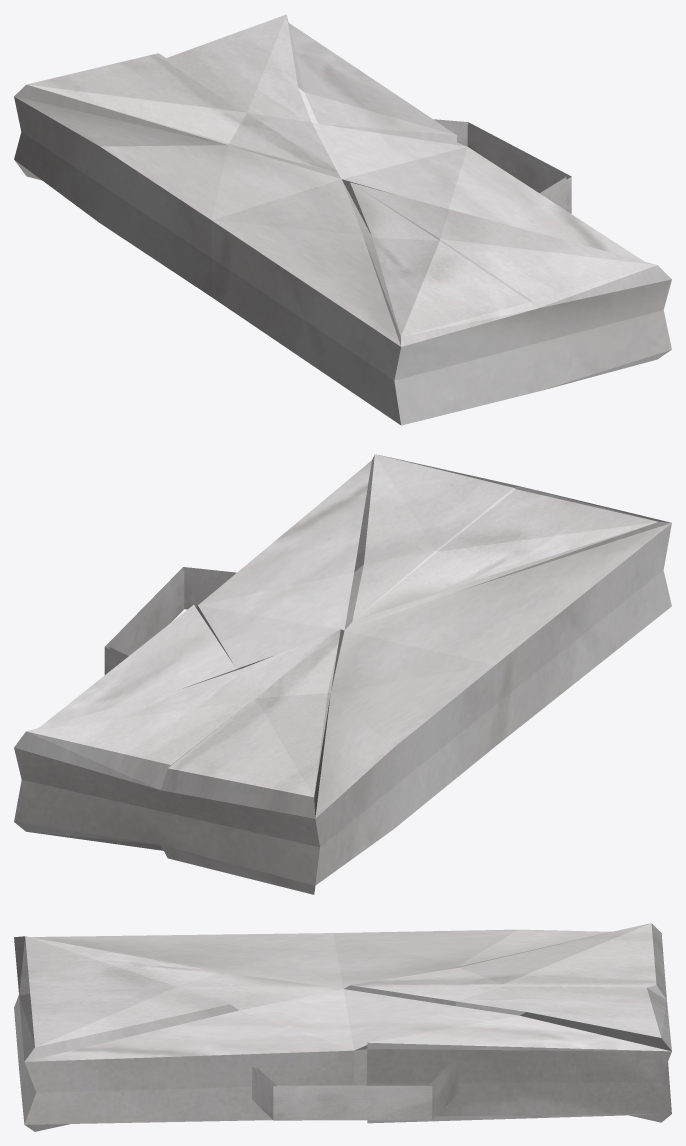
The model's file is Maleta1.FBX.
The picture shows the model from 3 angles, top to bottom: view 1: azimuth 30°, elevation 25°; view 2: azimuth 150°, elevation 25°; view 3: azimuth 270°, elevation 25°; orthographic projection. The views are drawn at different scales.
Parts seen in each view (by area): view 1: Maleta4; view 2: Maleta4; view 3: Maleta4.
Part boxes in pixels (x1,y1,x2,y2): Maleta4: (14,14,671,425); Maleta4: (14,454,671,894); Maleta4: (14,923,671,1131).
Bounding box in the file's own units: 64.53 × 17.43 × 120.
